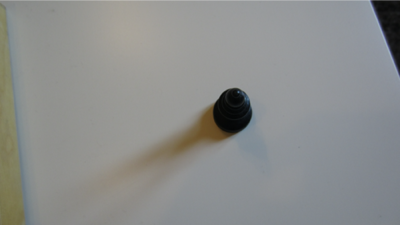black-bishop: (212, 88, 254, 134)
